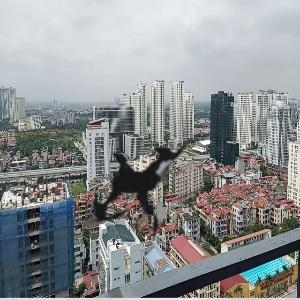drone: (42, 83, 249, 290)
